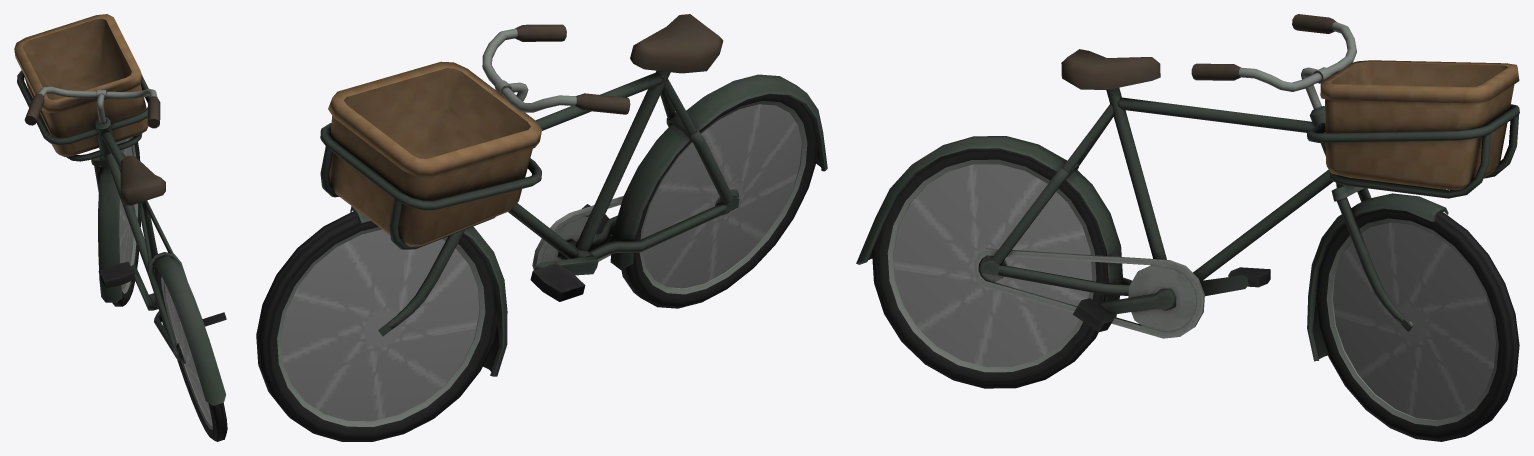
3 renders of one model, left to right at view 1: azimuth 30°, elevation 25°; view 2: azimuth 150°, elevation 25°; view 3: azimuth 270°, elevation 25°, orthographic. The views are drawn at different scales.
Visible parts, largest first — view 1: body0_model0_lod0_mesh0, body0_model0_lod0_mesh1; view 2: body0_model0_lod0_mesh0, body0_model0_lod0_mesh1; view 3: body0_model0_lod0_mesh0, body0_model0_lod0_mesh1.
Boxes of the visible parts, x1,y1,x2,y2 form: body0_model0_lod0_mesh0: (14,14,227,441); body0_model0_lod0_mesh1: (119,138,212,425); body0_model0_lod0_mesh0: (256,14,827,441); body0_model0_lod0_mesh1: (281,104,801,421); body0_model0_lod0_mesh0: (856,14,1519,441); body0_model0_lod0_mesh1: (893,164,1495,420).
Size of the model in its own units: 38.06 by 50.01 by 85.41.
Materials: 2 (2 with a texture image).
